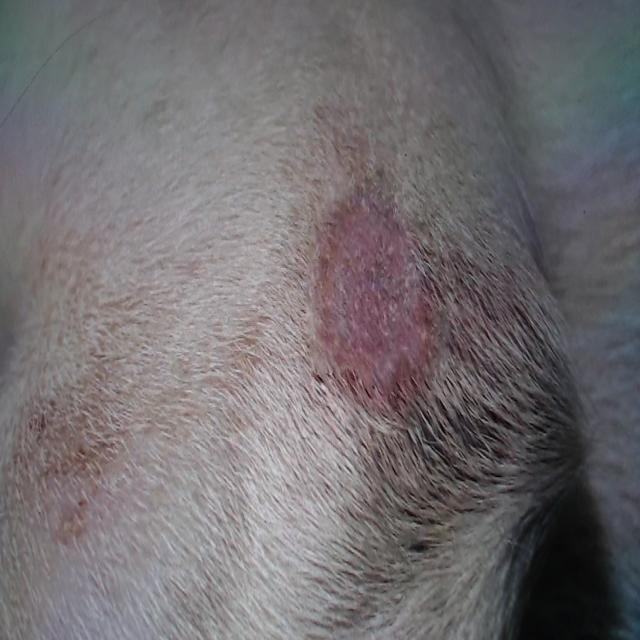ringworm: (307, 172, 439, 414)
